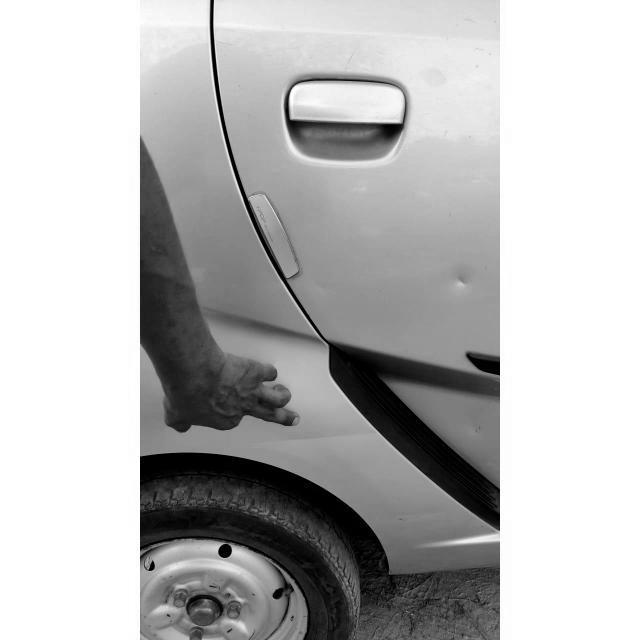quaterpanel-dent: (140, 366, 394, 606)
